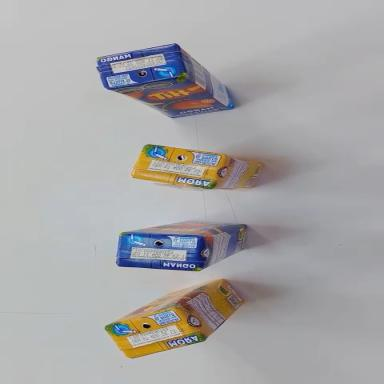HIT-MANGO: (96, 37, 234, 126), (117, 218, 246, 273)
HIT-MORA: (101, 275, 249, 364), (130, 142, 264, 197)
cara_F: (107, 70, 230, 127), (102, 277, 227, 326), (123, 218, 246, 239)
